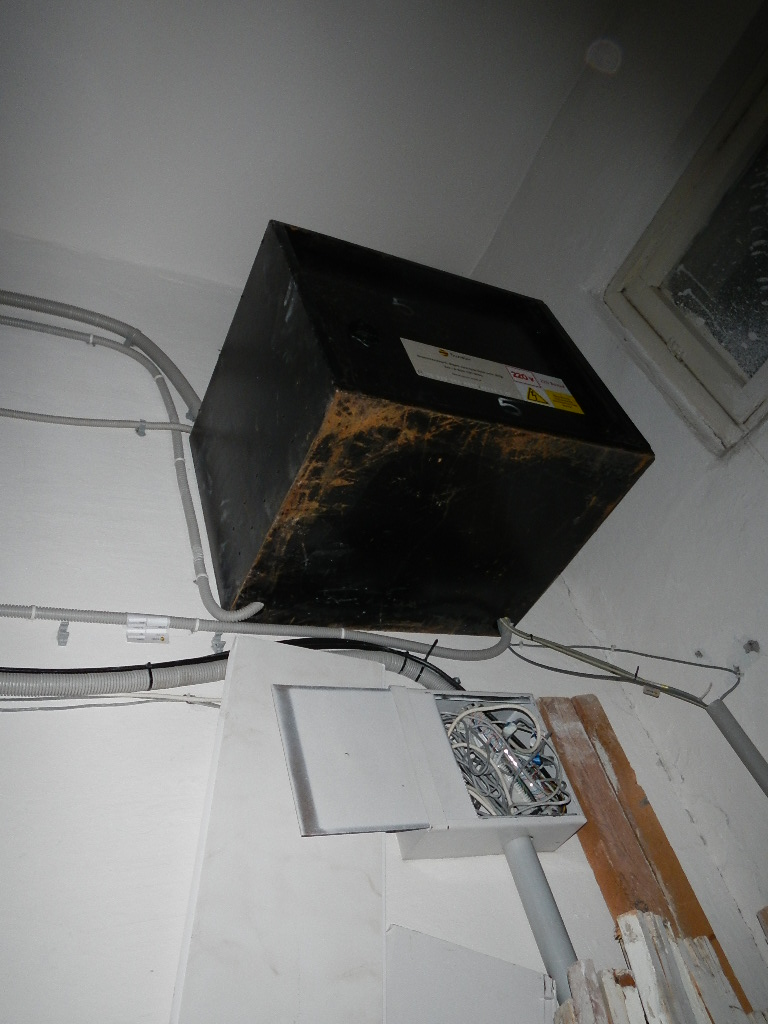shta-9m: (176, 209, 668, 642)
